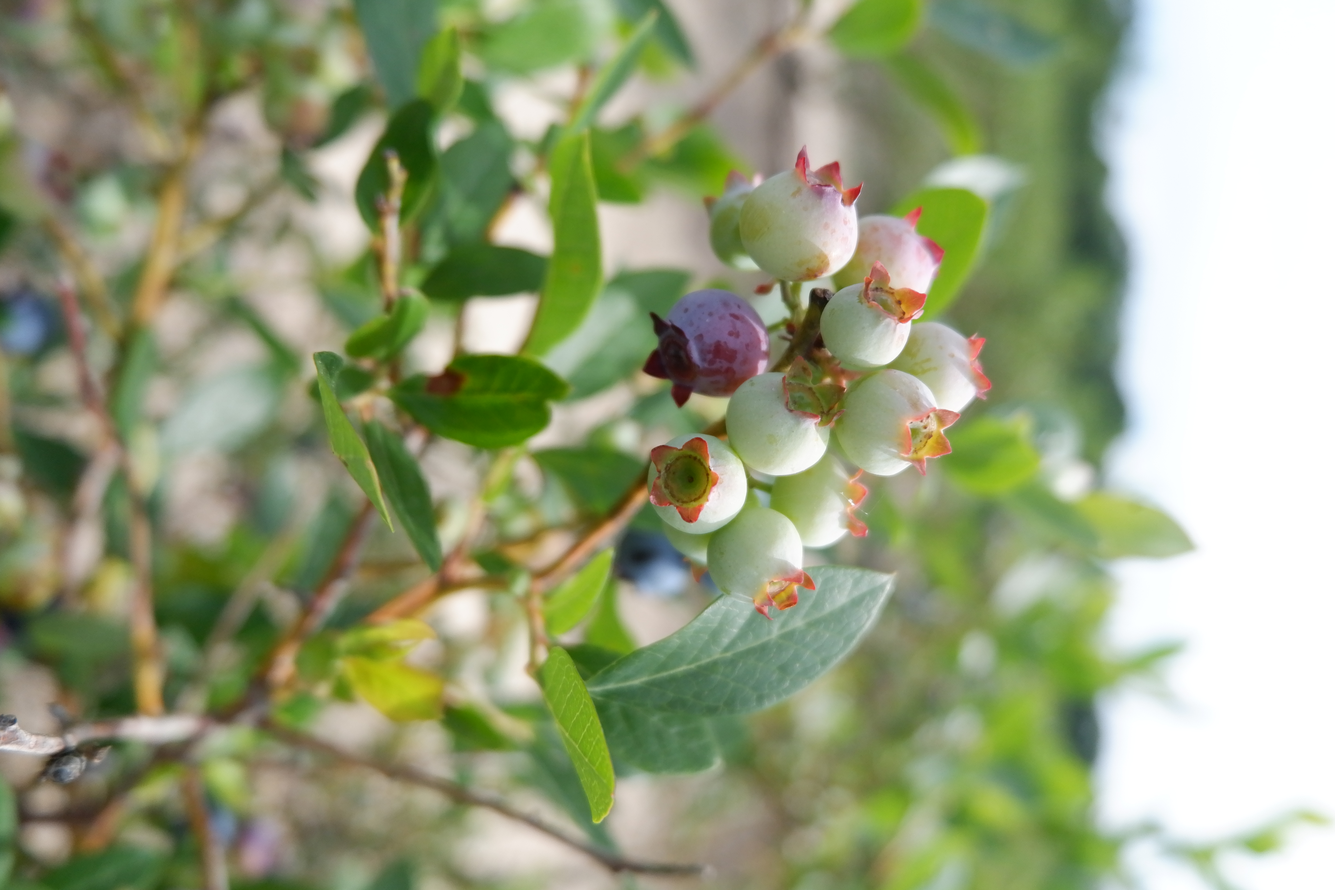Immature: (742, 148, 859, 277), (652, 291, 768, 400), (837, 373, 948, 473), (838, 206, 940, 314), (728, 375, 831, 475), (711, 507, 801, 615), (773, 444, 868, 545), (895, 322, 990, 417), (652, 437, 746, 530), (824, 283, 908, 366), (709, 172, 759, 269), (665, 522, 712, 567)
Mature: (616, 524, 704, 597)
